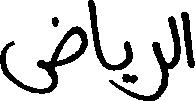X: (0, 12, 85, 98), (141, 37, 166, 100), (89, 0, 105, 72), (183, 7, 194, 72), (169, 11, 178, 73), (124, 36, 130, 100)
